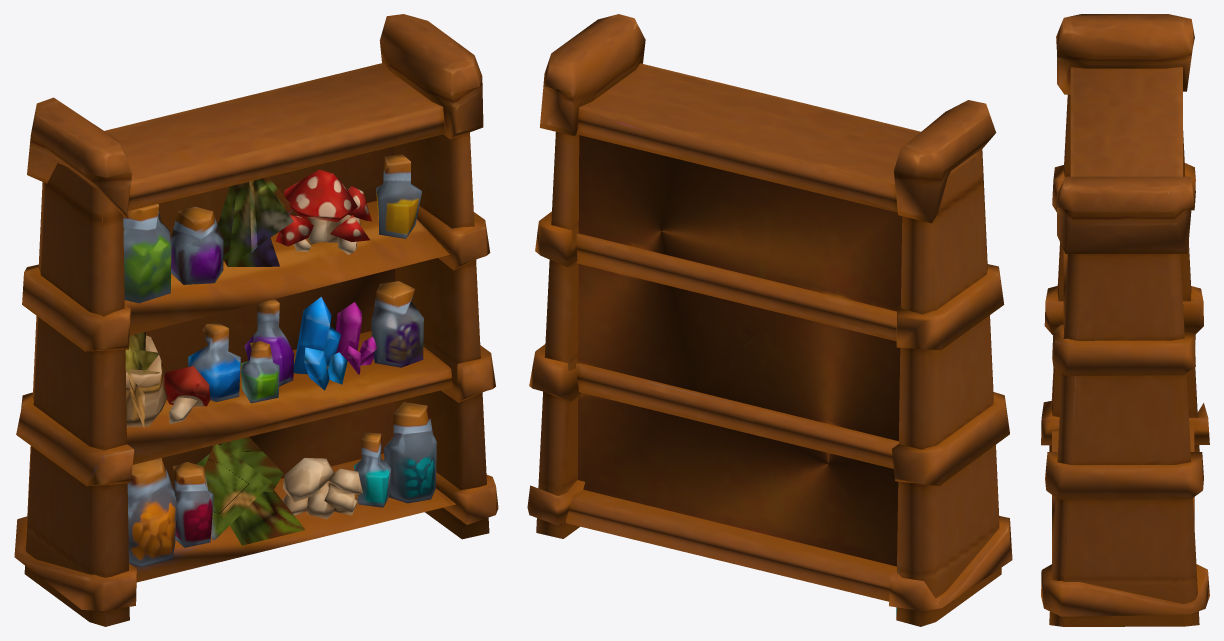
File: atelier_ingredients.glb
3 views of the same model, side by side, from view 1: azimuth 30°, elevation 25°; view 2: azimuth 150°, elevation 25°; view 3: azimuth 270°, elevation 25° (orthographic). The views are drawn at different scales.
Visible parts, largest first — view 1: geometry_0; view 2: geometry_0; view 3: geometry_0.
Boxes of the visible parts, <box> form: geometry_0: <box>14,14,498,626</box>; geometry_0: <box>527,14,1012,626</box>; geometry_0: <box>1041,14,1209,626</box>.
Size of the model in its own units: 0.8882 by 0.9526 by 0.334.
Materials: 1 (1 with a texture image).
